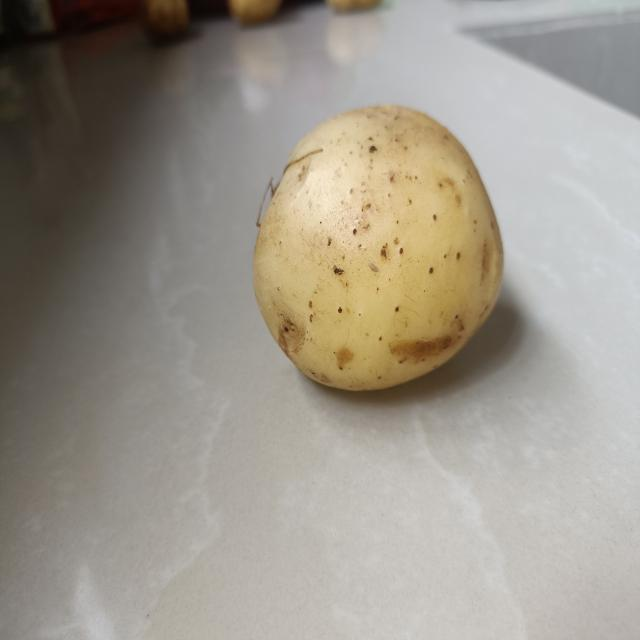potato: (247, 97, 507, 399)
